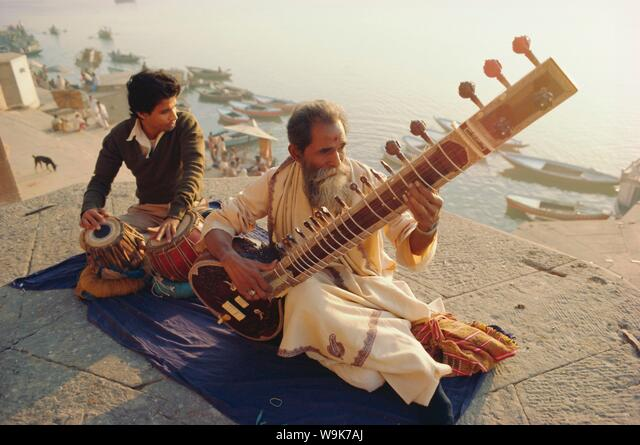tabla: (146, 211, 207, 279), (77, 216, 143, 275)
